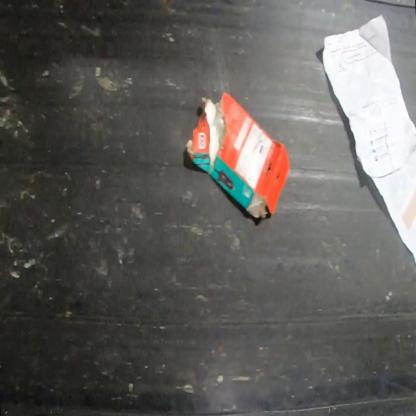cardboard: (185, 92, 289, 218)
